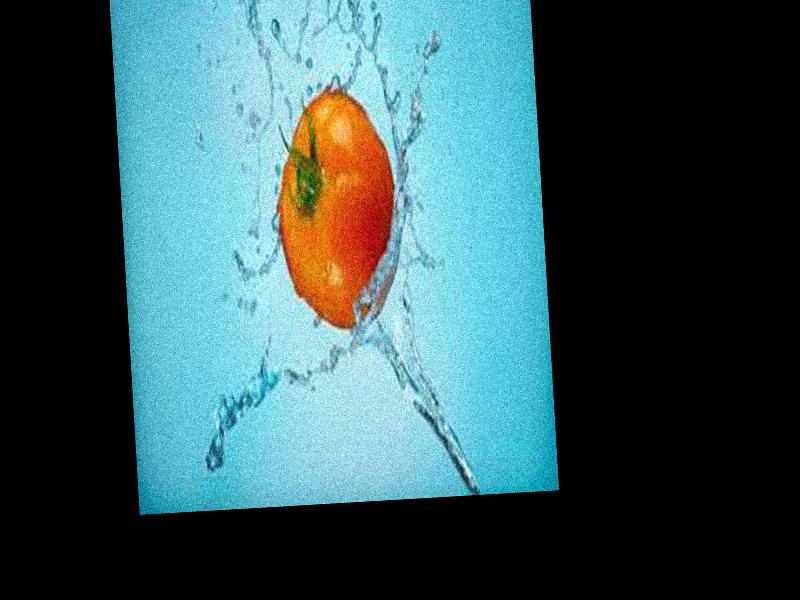Tomato: (272, 85, 404, 332)
